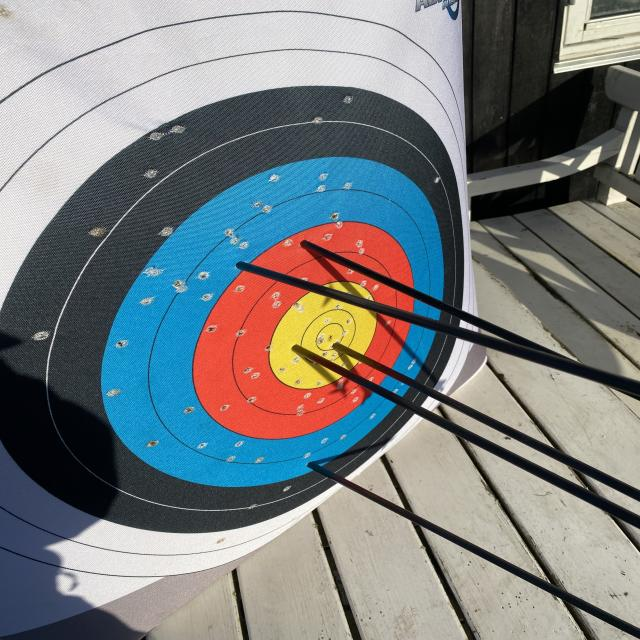Arrow_Blue: (222, 256, 259, 277), (293, 456, 332, 474)
Arrow_Red: (288, 228, 320, 256)
Arrow_Yellow: (321, 336, 358, 361), (289, 339, 312, 364)
